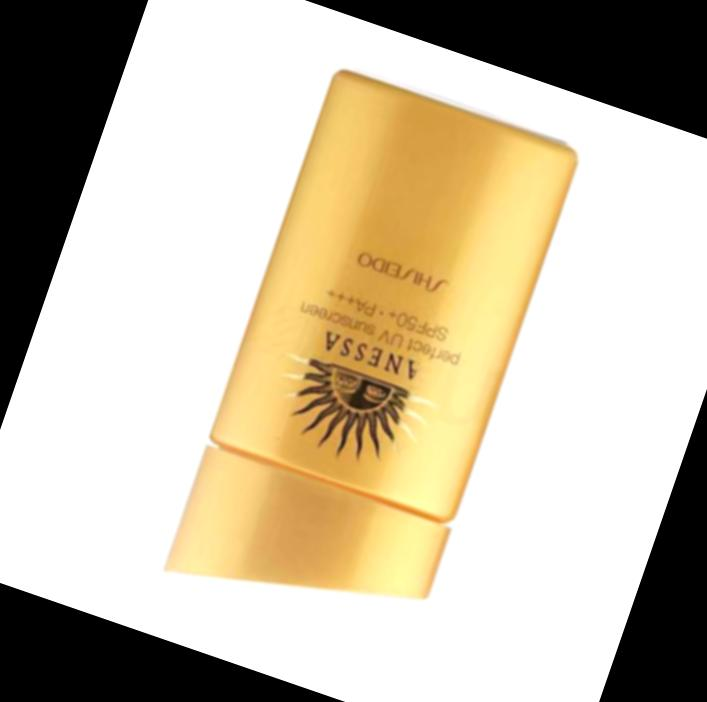cosmetic: (156, 67, 578, 670)
